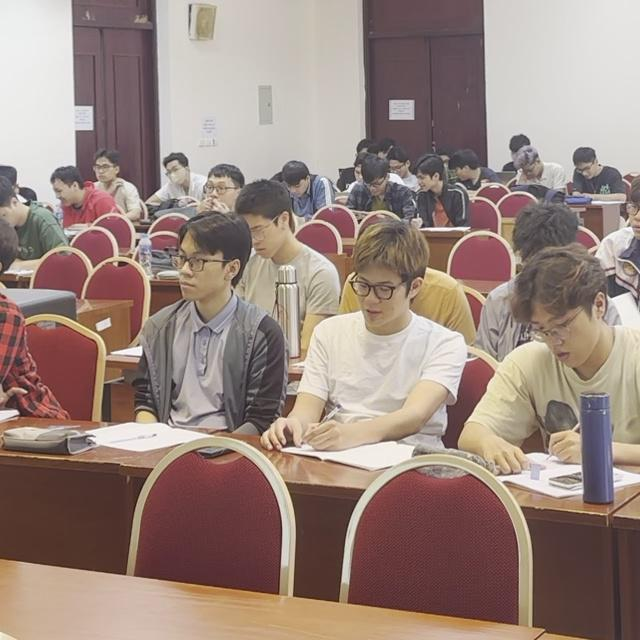Looking away: (496, 198, 570, 276), (236, 201, 290, 259), (0, 179, 37, 245), (361, 273, 393, 323), (51, 179, 81, 206), (519, 157, 550, 181), (285, 170, 309, 199), (362, 173, 386, 199), (572, 156, 596, 179), (450, 162, 477, 182), (413, 170, 435, 190)
Looking forward: (172, 243, 221, 301), (624, 179, 640, 240), (210, 179, 238, 201), (165, 164, 193, 186), (93, 154, 115, 180)
Reading-writing: (517, 269, 636, 523)
